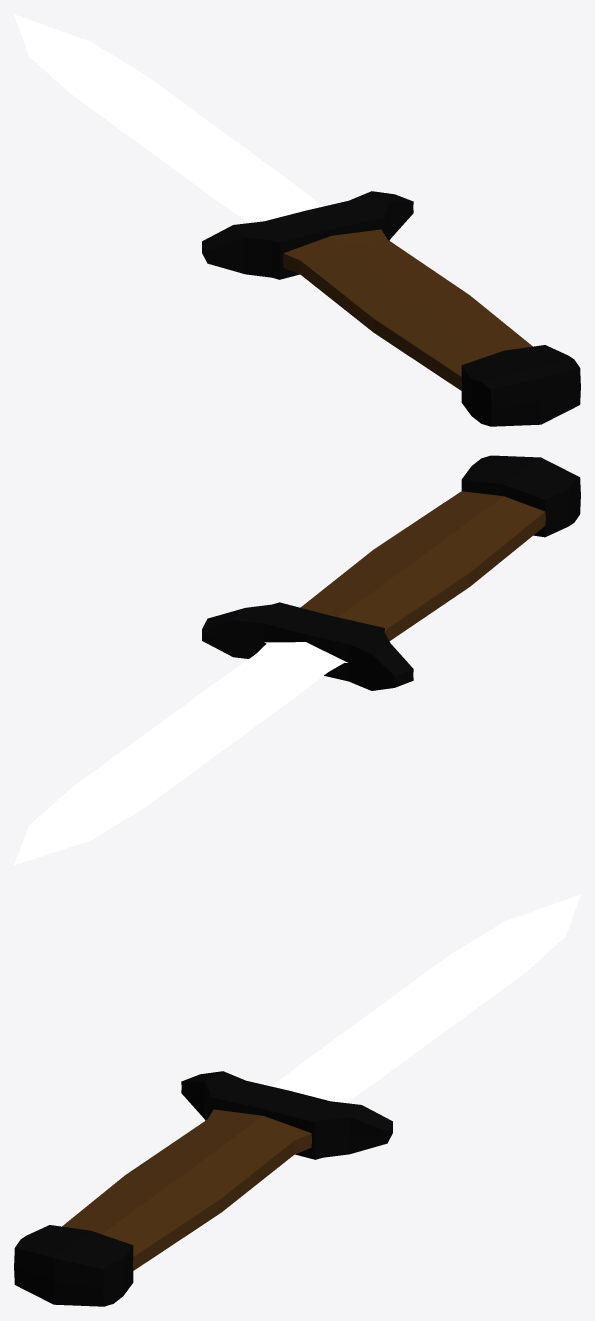
The model's file is knife - Copy.glb.
The picture shows the model from 3 angles, top to bottom: view 1: azimuth 30°, elevation 25°; view 2: azimuth 150°, elevation 25°; view 3: azimuth 330°, elevation 25°; orthographic projection.
Visible parts, largest first — view 1: Plane; view 2: Plane; view 3: Plane.
Part boxes in pixels (x1,y1,x2,y2): Plane: (14,14,580,426); Plane: (14,455,580,865); Plane: (14,894,580,1306).
Size of the model in its own units: 1.17 by 0.2796 by 5.2.
